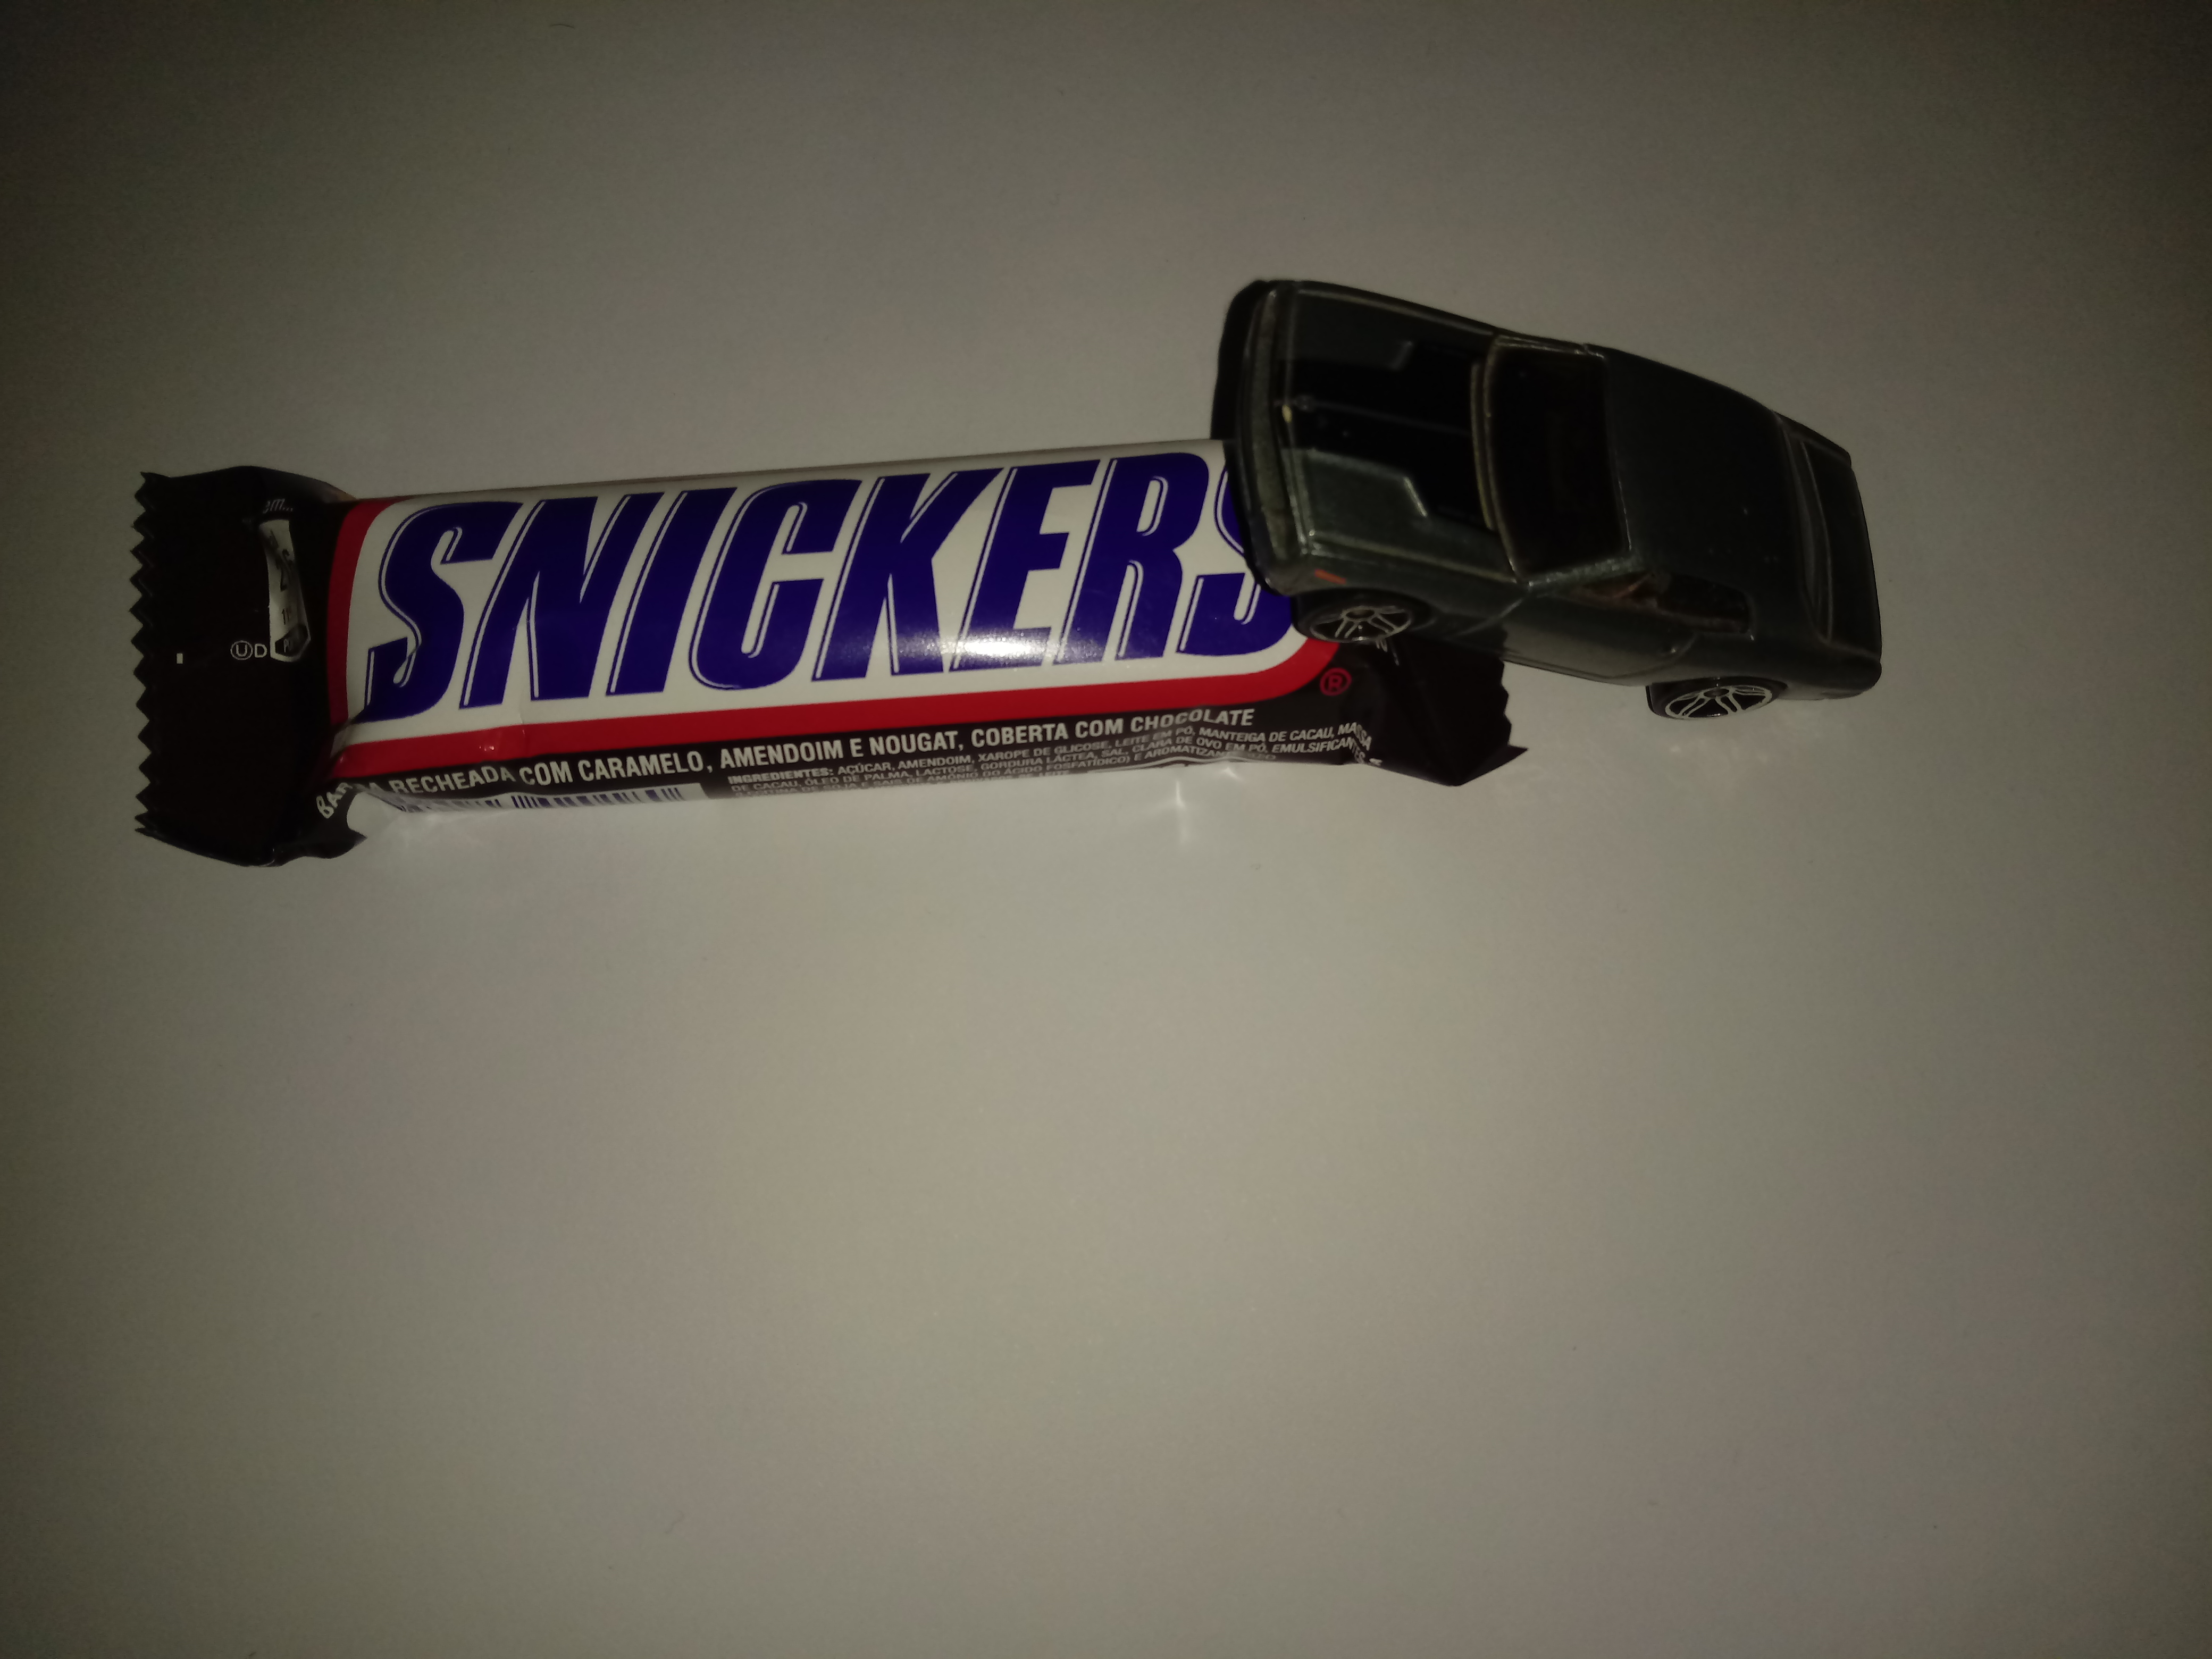snickers: (124, 422, 1543, 878)
